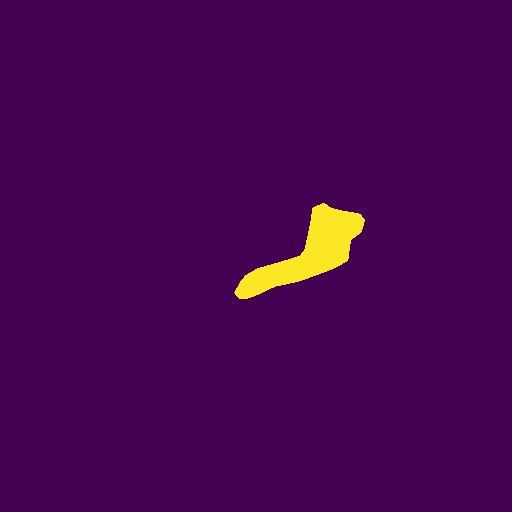Gliomia_tumour: (234, 203, 365, 299)
